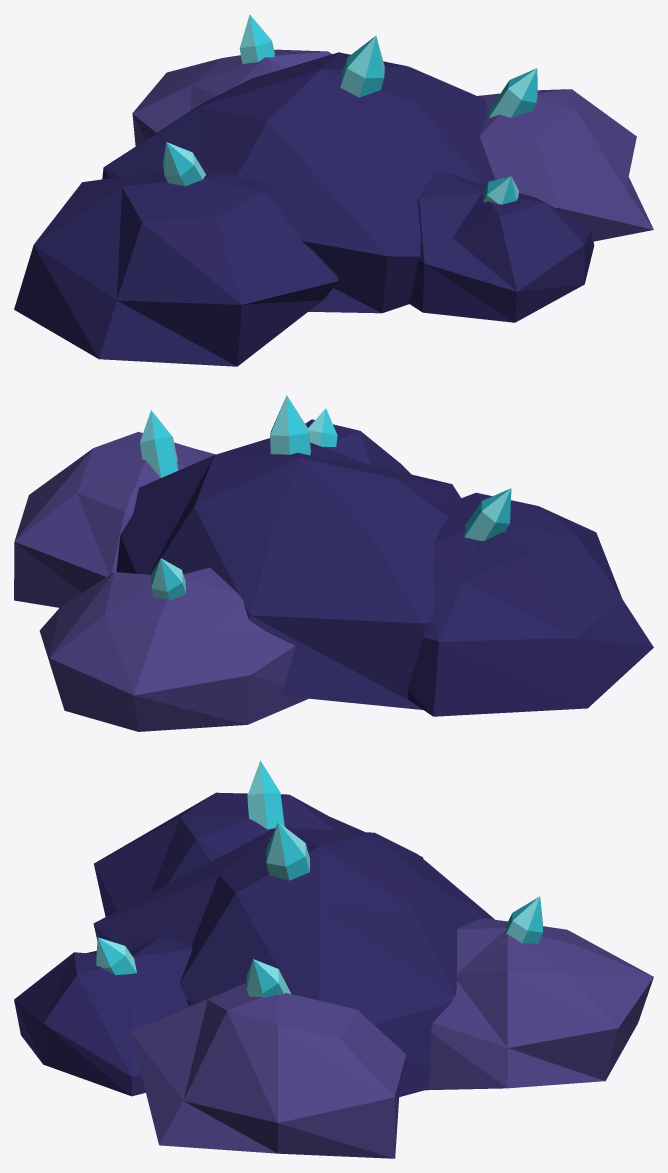
The model's file is Mine_Ore_Pile.obj.
3 views of the same model, one above another, from view 1: azimuth 30°, elevation 25°; view 2: azimuth 150°, elevation 25°; view 3: azimuth 270°, elevation 25° (orthographic). The views are drawn at different scales.
Visible parts, largest first — view 1: Mine_Ore_Pile; view 2: Mine_Ore_Pile; view 3: Mine_Ore_Pile.
Part boxes in pixels (box(x1,y1,x2,y2)): Mine_Ore_Pile: box(14, 14, 653, 366); Mine_Ore_Pile: box(14, 395, 653, 731); Mine_Ore_Pile: box(14, 760, 653, 1158).
Size of the model in its own units: 1.7 by 0.5989 by 1.53.
